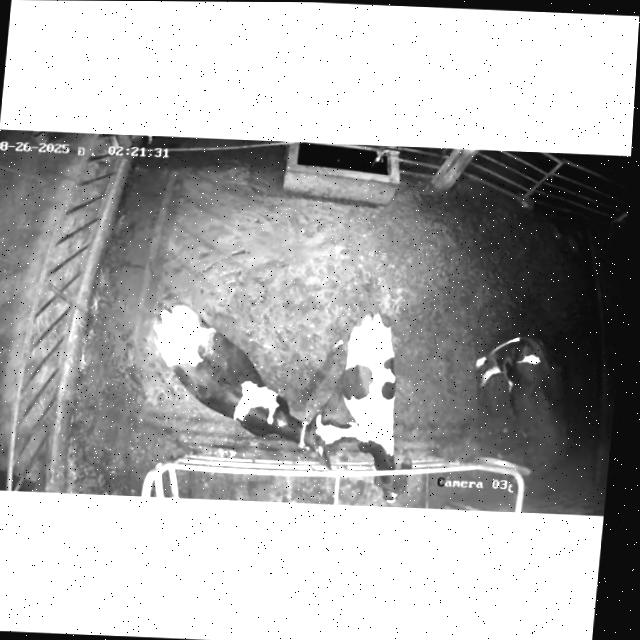stand: (134, 297, 372, 470), (323, 304, 431, 506)
